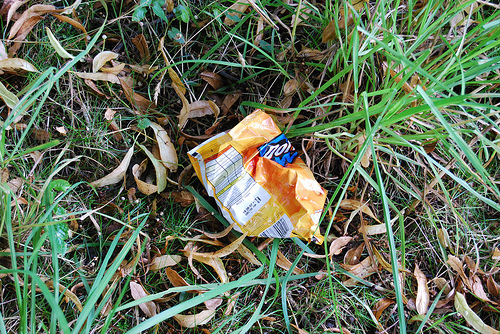litter: (185, 108, 328, 247)
